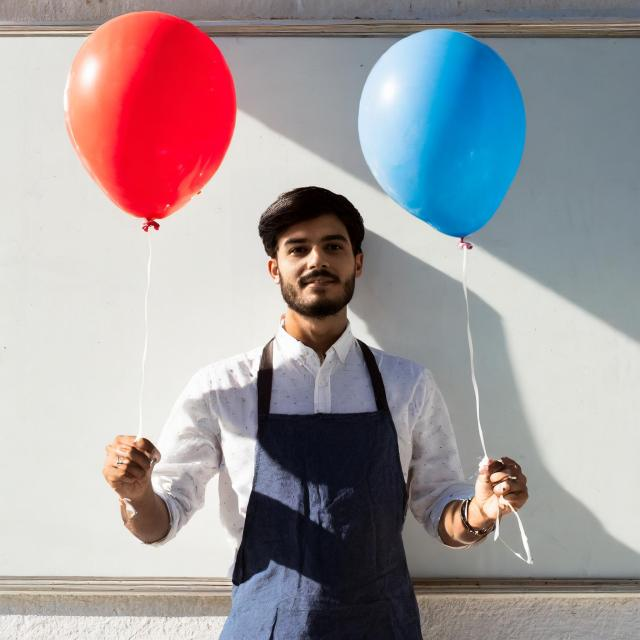blue: (362, 29, 527, 243)
red: (67, 13, 236, 225)
